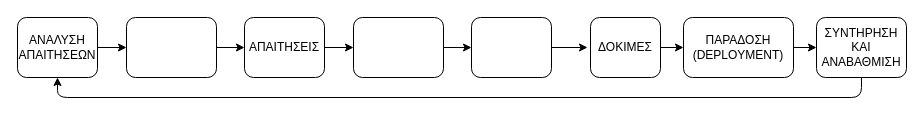
This 924x123 diagram has some shape labels left out. Here are the shapes that lost their labels. From the top down, the centre of each, then its label:
the point at 171,47: ΣΧΕΔΙΑΣΜΟΣ
the point at 398,47: ΣΧΕΔΙΑΣΗ ΠΡΩΤΟΤΥΠΟΥ
the point at 511,47: ΑΝΑΠΤΥΞΗ ΛΟΓΙΣΜΙΚΟΥ
